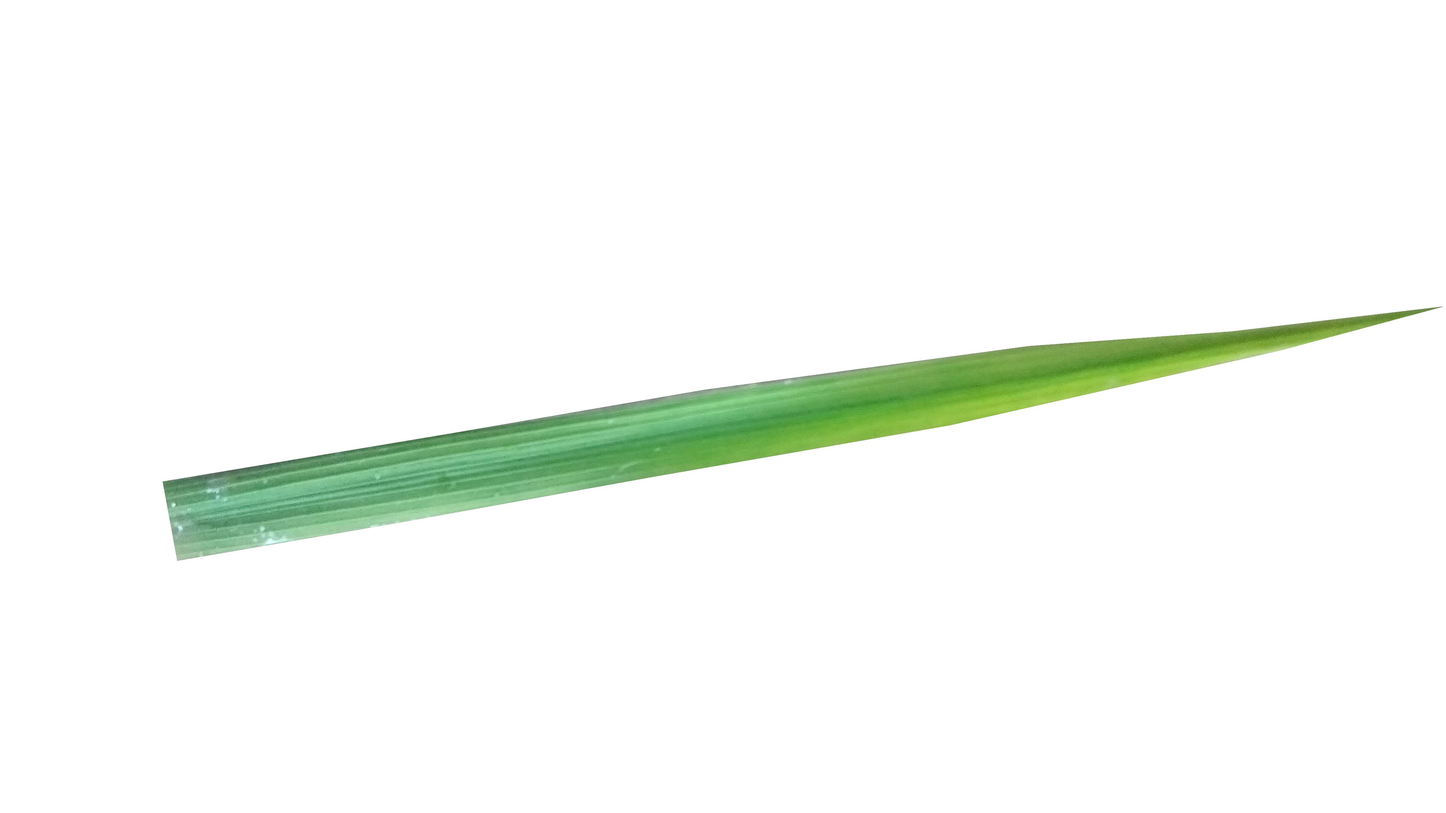Tungro: (721, 335, 1347, 469)
